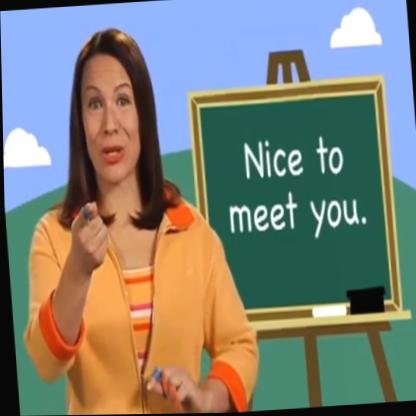NiceToMeetYou: (42, 179, 134, 301)
